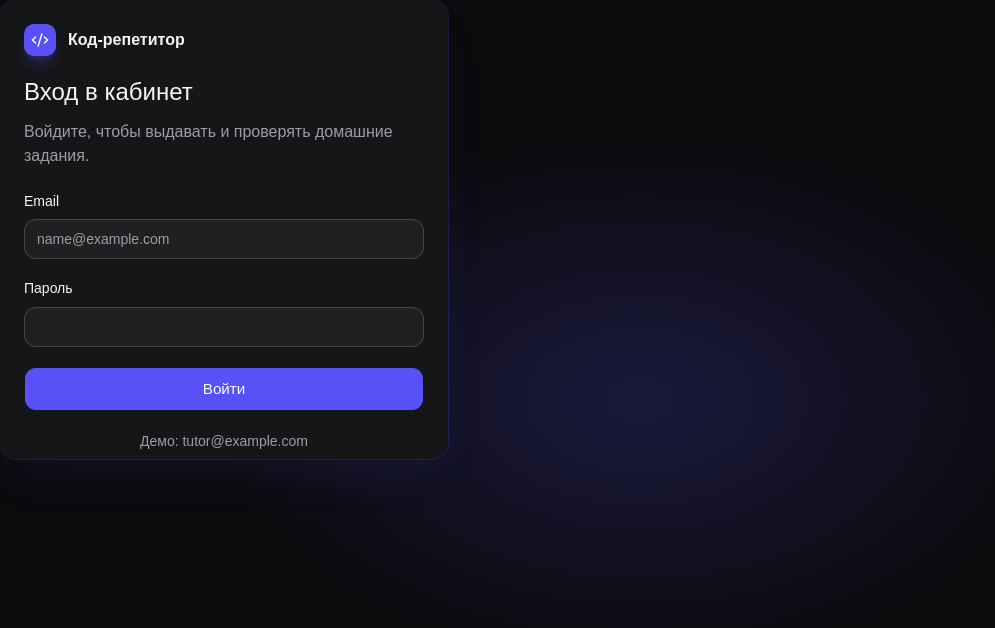
it: LoginForm › пустая форма: сообщения у обоих полей, фокус на первом, запрос не отправляется
Click the button "Войти".
click(224, 388)  # box 24,366 -> 424,410
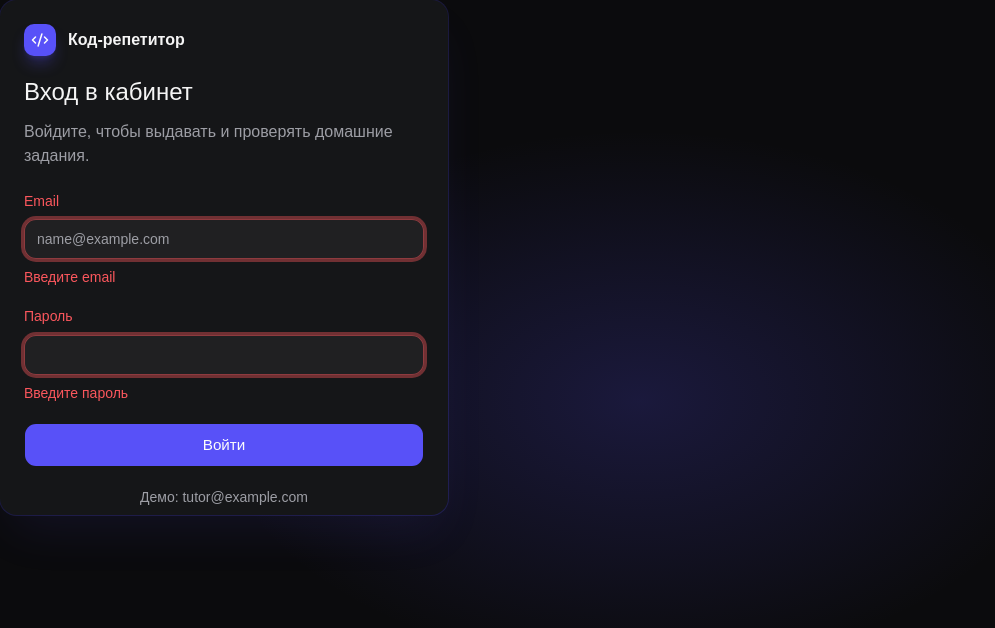
Expected: the text "Введите email" is shown, 24,269 -> 116,285
Expected: the text "Введите пароль" is shown, 24,384 -> 128,400
